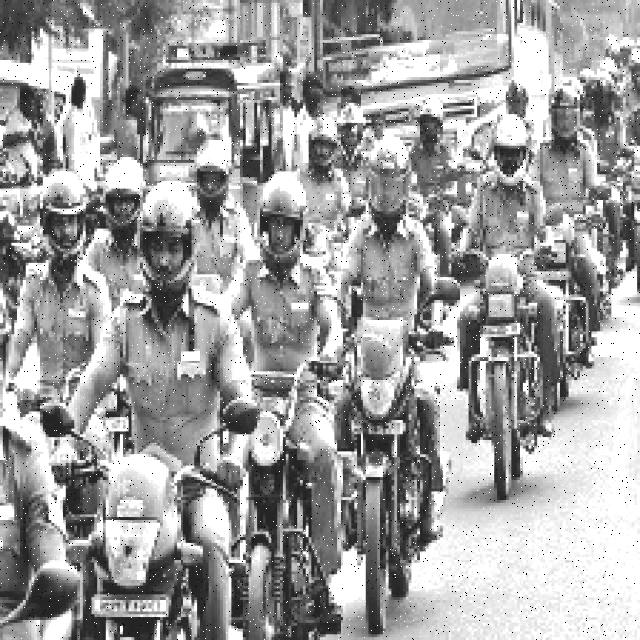Bike: (334, 294, 446, 624), (75, 437, 221, 639), (222, 368, 322, 640), (466, 237, 552, 497)
